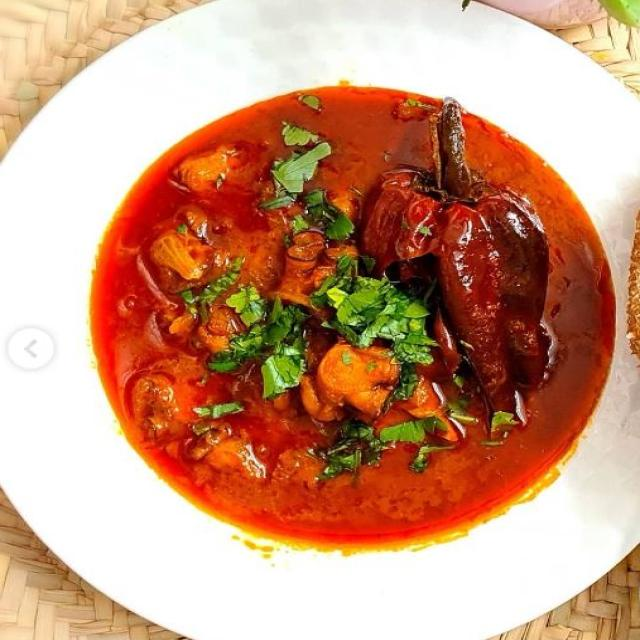kamouniya: (12, 105, 578, 626)
